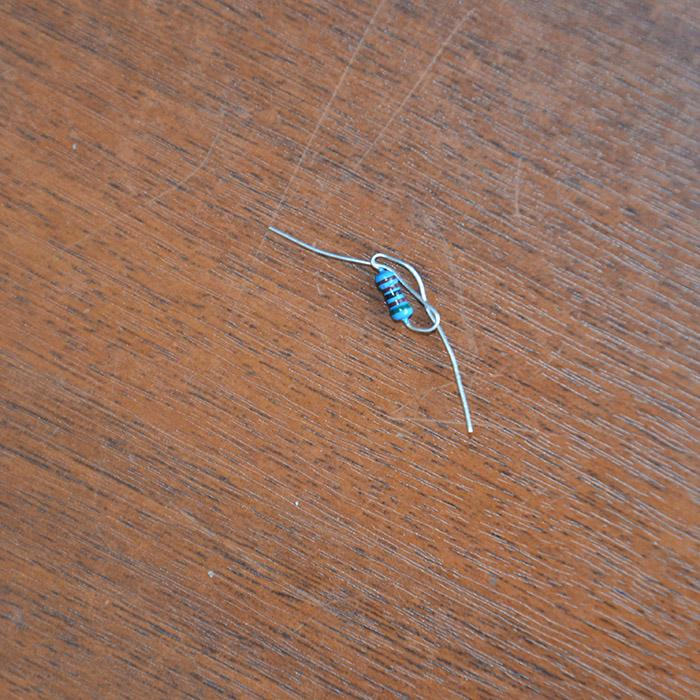resistor: (375, 266, 415, 321)
